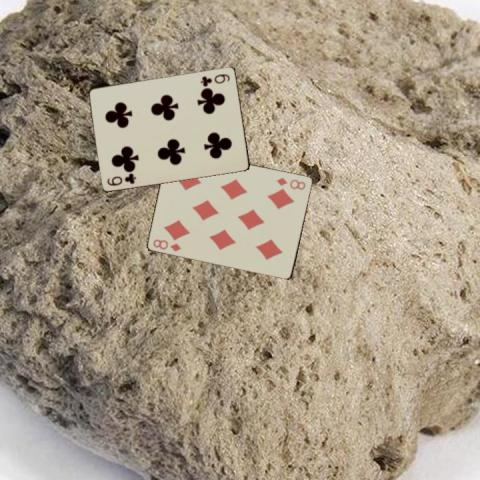6c: (104, 170, 137, 187), (198, 71, 231, 87)
8d: (274, 174, 307, 191), (150, 236, 183, 253)
